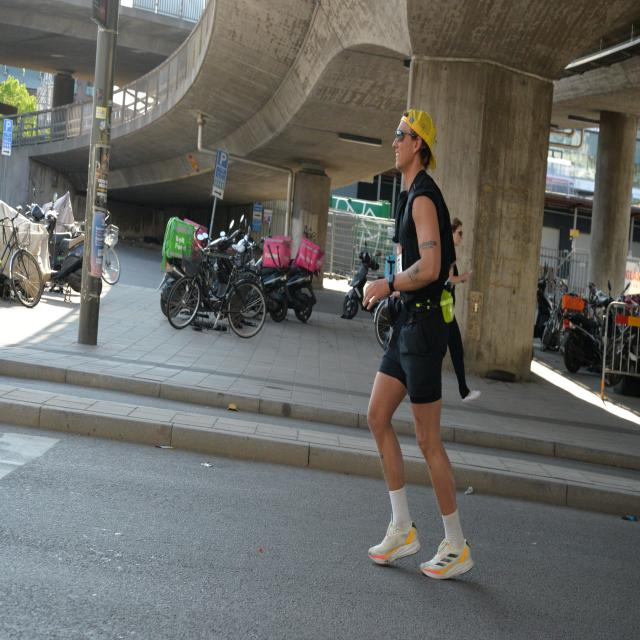runner-detect: (359, 101, 487, 582)
